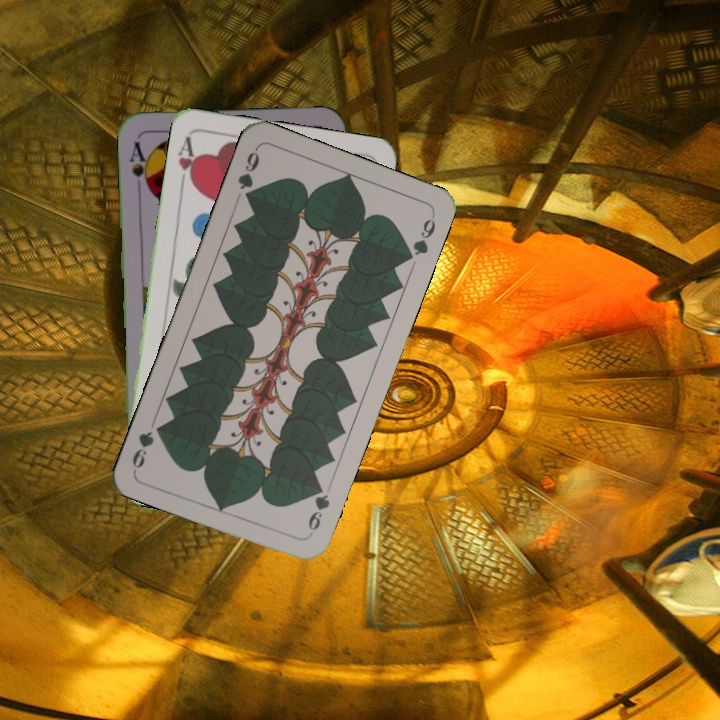G9: (233, 144, 262, 204), (304, 479, 333, 539)
HA: (174, 132, 201, 192)
SA: (126, 138, 153, 195)
